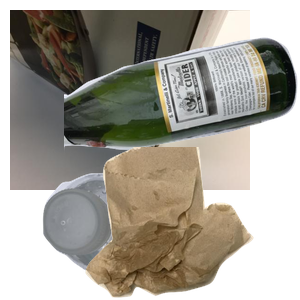cardboard: (10, 10, 250, 190)
glass: (64, 35, 300, 181)
plastic: (40, 170, 187, 300)
trash: (83, 147, 300, 300)
